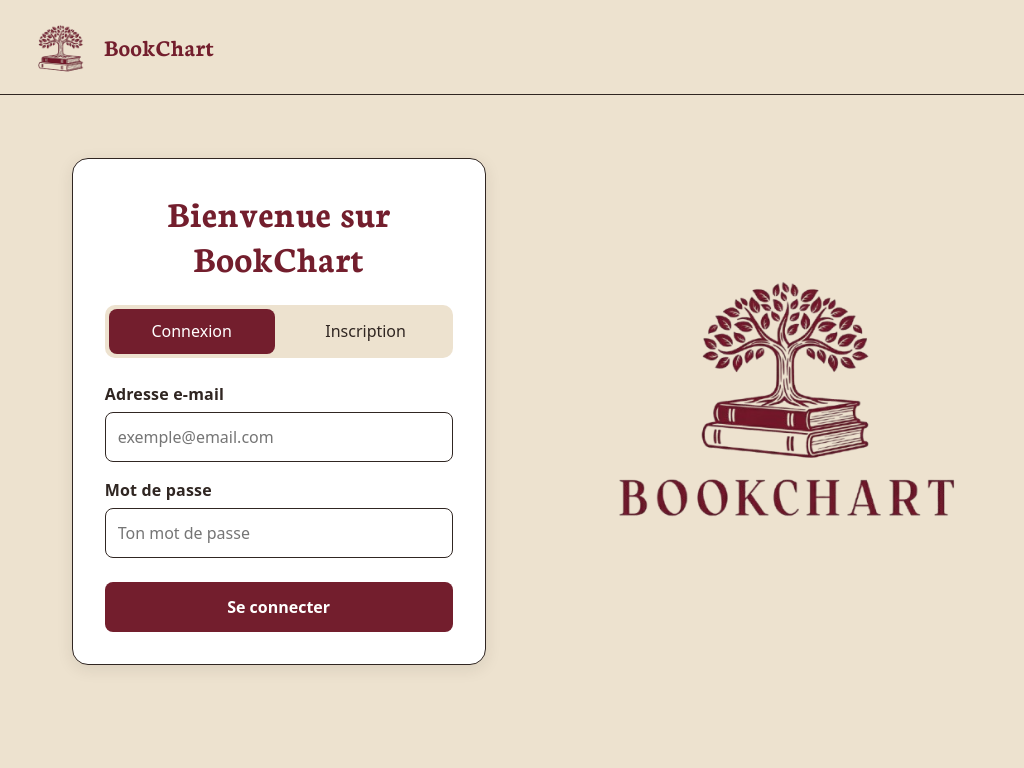
Scenario: navigation et authentification › affiche l'erreur renvoyée par l'API de connexion
Step 1. Type "wrong@example.test" into the field labelled "Adresse e-mail" → [279, 437], box [105,412,453,462]
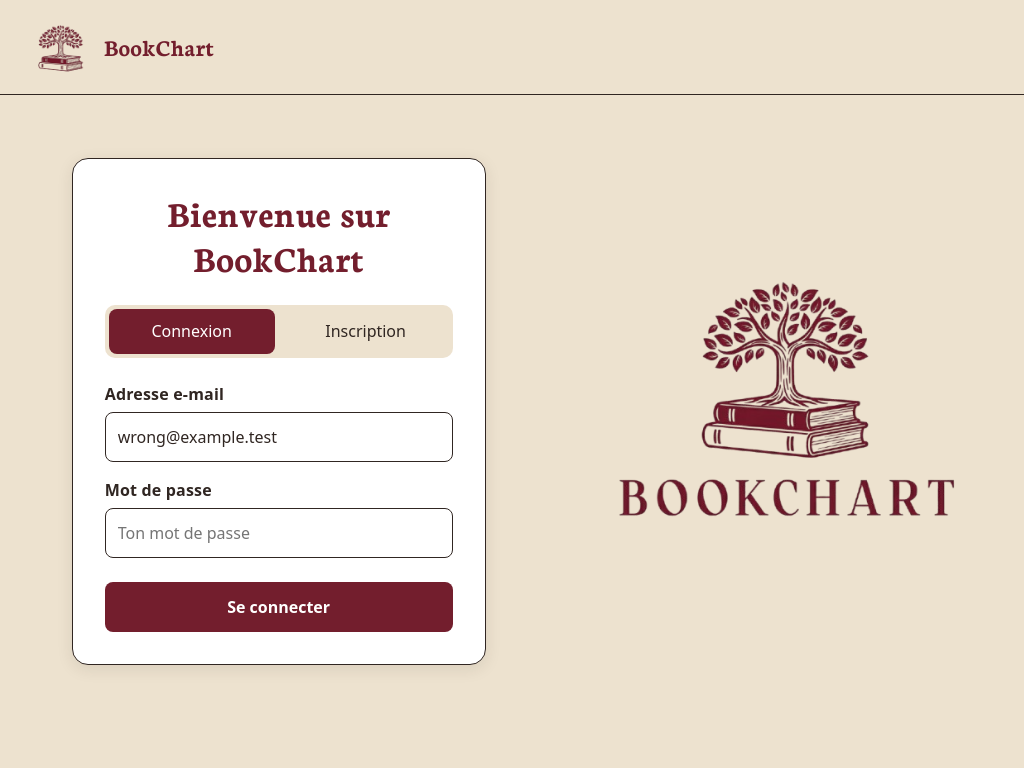
Step 2. Type "wrong-password" into the password field labelled "Mot de passe" → [279, 533], box [105,508,453,558]
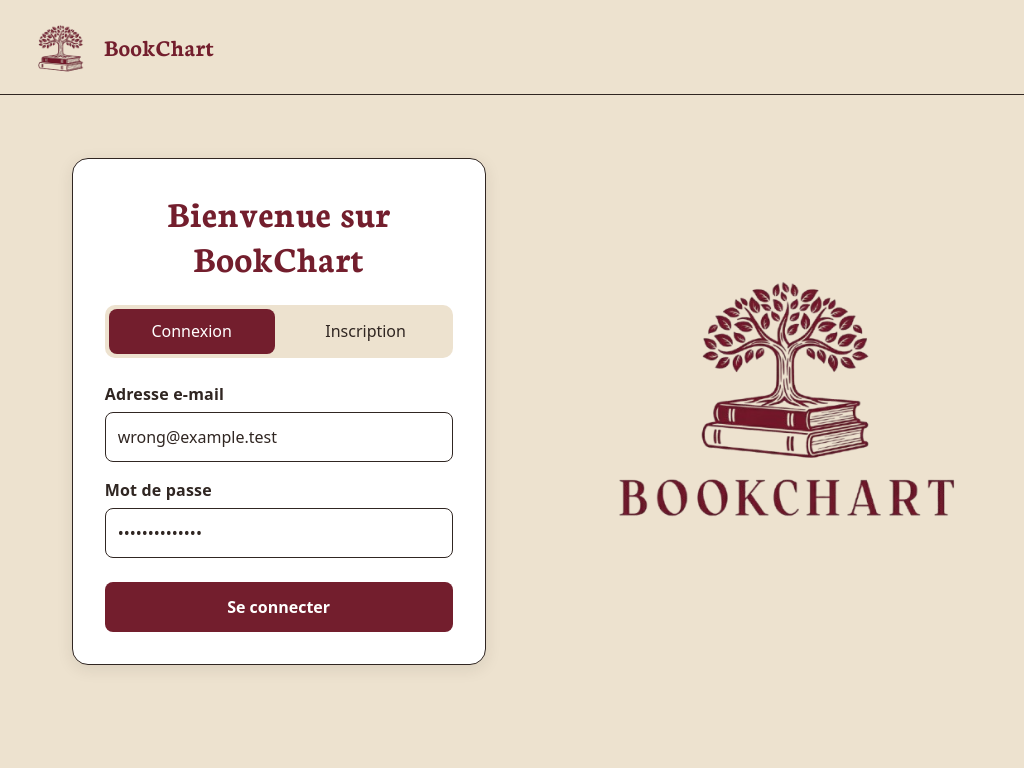
Step 3. Click the button "Se connecter" → [279, 607], box [105,582,453,632]
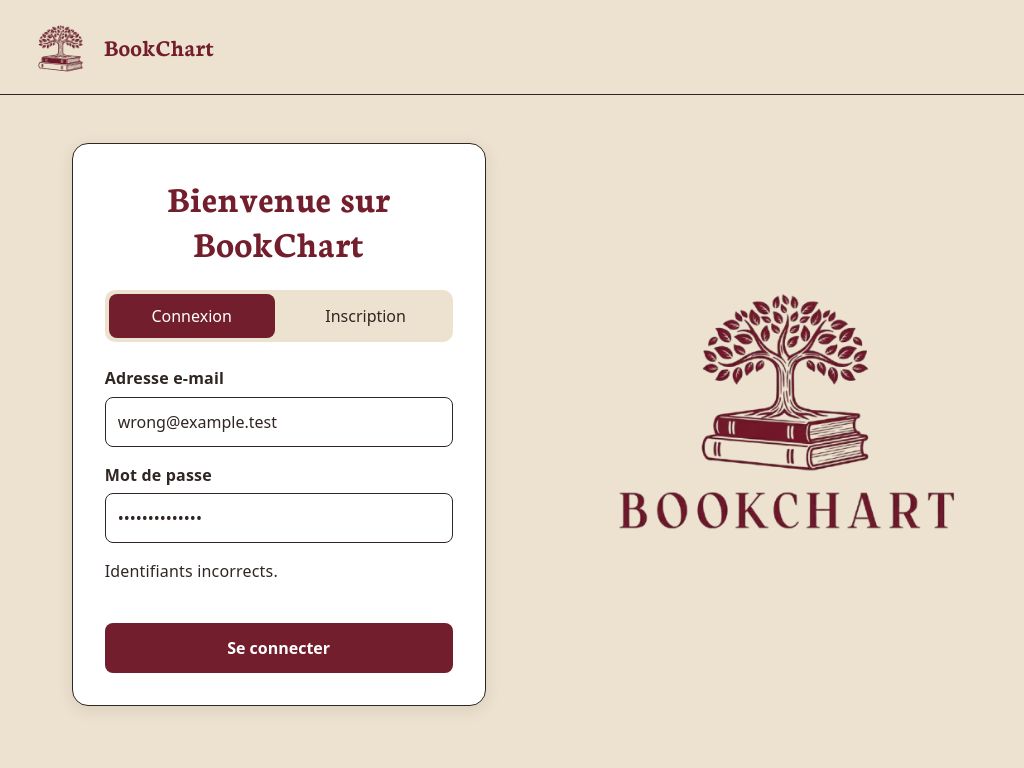
Expected: the message reads "Identifiants incorrects.", [105,560,278,582]
